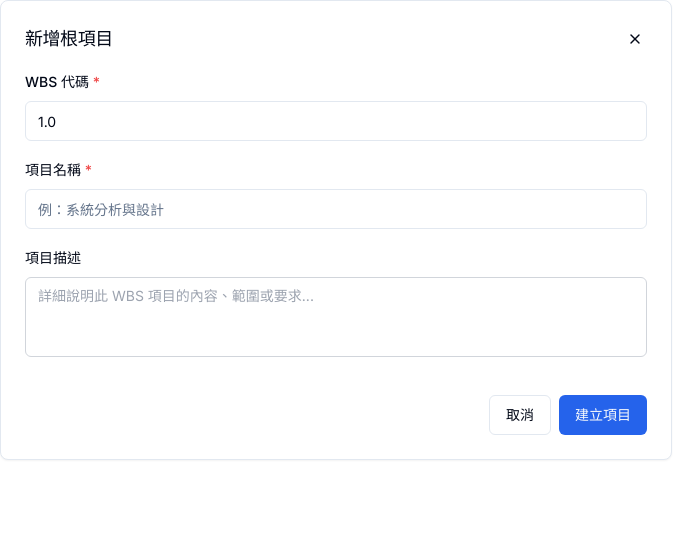
Test: WBSItemForm Component › Common Functionality › should clear field errors when user starts typing
This screenshot has width=689, height=533.
Clear code to trigger validation error
Clear the field showing "1.0" at (336, 121), box [25,101,647,141]
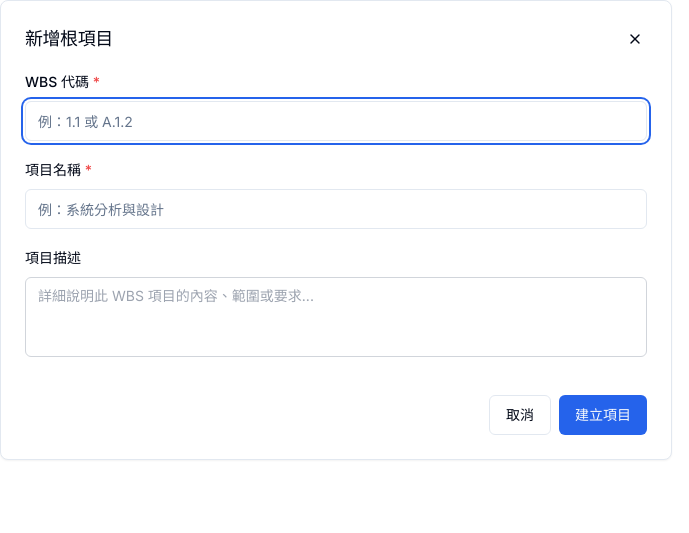
Click the button "建立項目".
click(603, 415)  # box [559,395,647,435]
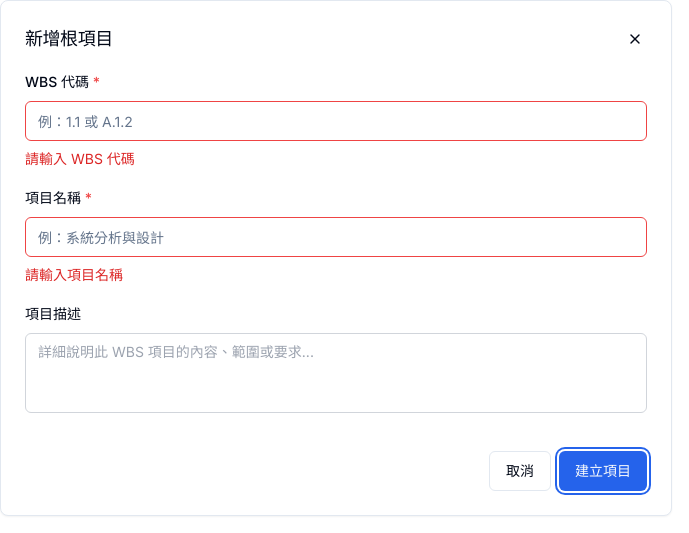
Now the text "請輸入 WBS 代碼" is shown, box [25,150,135,167]
Start typing to clear error
Type "2.0" into the field showing "1.0".
click(336, 121); type("2.0")  # box [25,101,647,141]
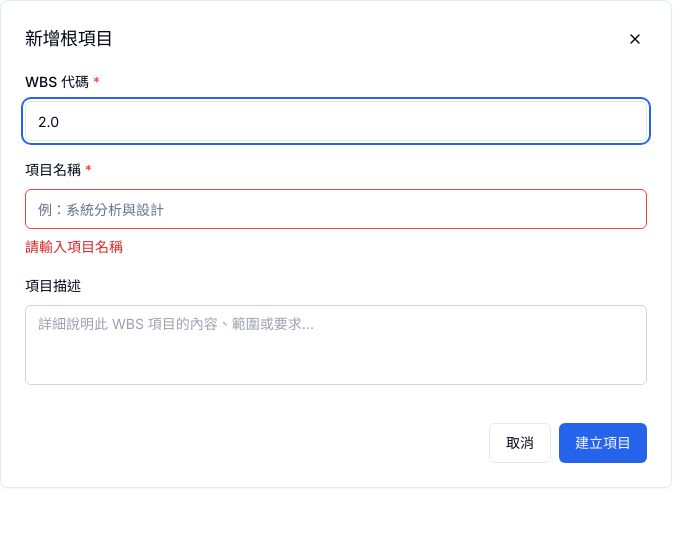
Now the text "請輸入 WBS 代碼" is gone
